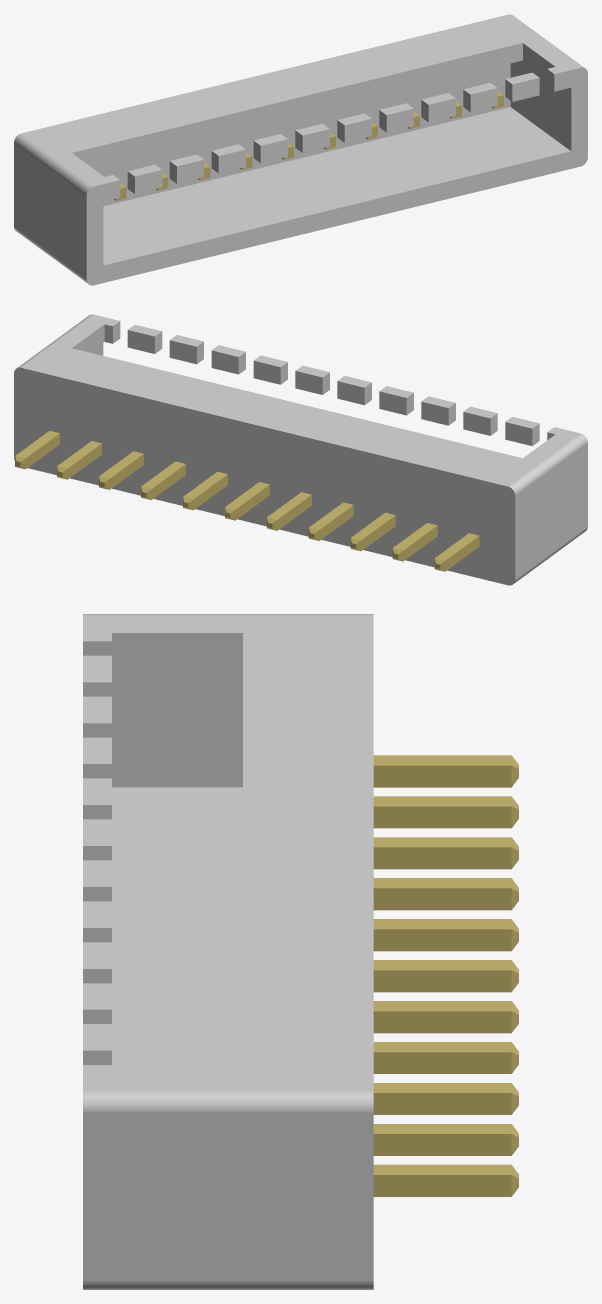
Rendered from jst_ph_11pin.glb.
3 views of the same model, one above another, from view 1: azimuth 30°, elevation 25°; view 2: azimuth 150°, elevation 25°; view 3: azimuth 270°, elevation 25° (orthographic). The views are drawn at different scales.
Parts seen in each view (by area): view 1: world; view 2: world; view 3: world.
Part boxes in pixels (x1,y1,x2,y2): world: [14, 14, 587, 285]; world: [14, 314, 587, 585]; world: [83, 614, 518, 1289].
Bounding box in the file's own units: 23.9 × 4.5 × 9.
